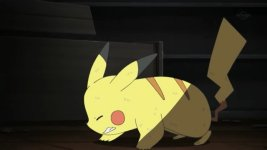pikachu: (81, 17, 247, 143)
